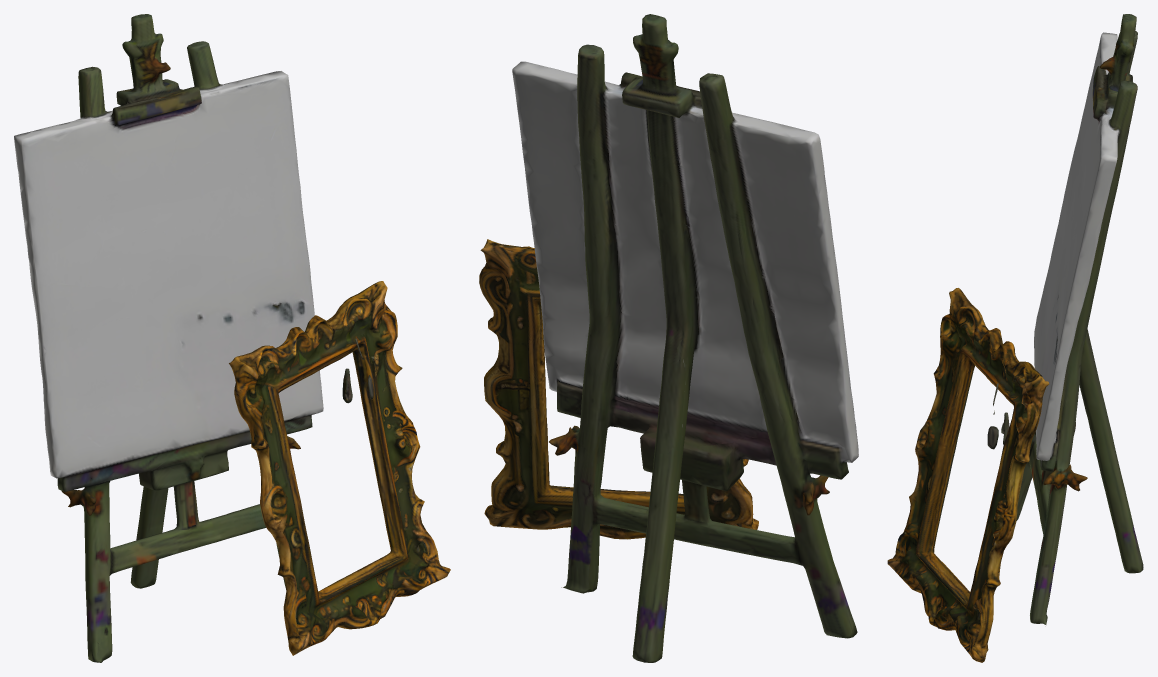
File: easel.glb
3 renders of one model, left to right at view 1: azimuth 30°, elevation 25°; view 2: azimuth 150°, elevation 25°; view 3: azimuth 270°, elevation 25°, orthographic. The views are drawn at different scales.
Parts seen in each view (by area): view 1: Easel; view 2: Easel; view 3: Easel.
Part boxes in pixels (left/top/right/bottom): Easel: left=14, top=14, right=450, bottom=662; Easel: left=479, top=14, right=858, bottom=662; Easel: left=887, top=14, right=1143, bottom=662.
Size of the model in its own units: 0.9997 by 1.5 by 0.6325.
1 material, 1 textured.
